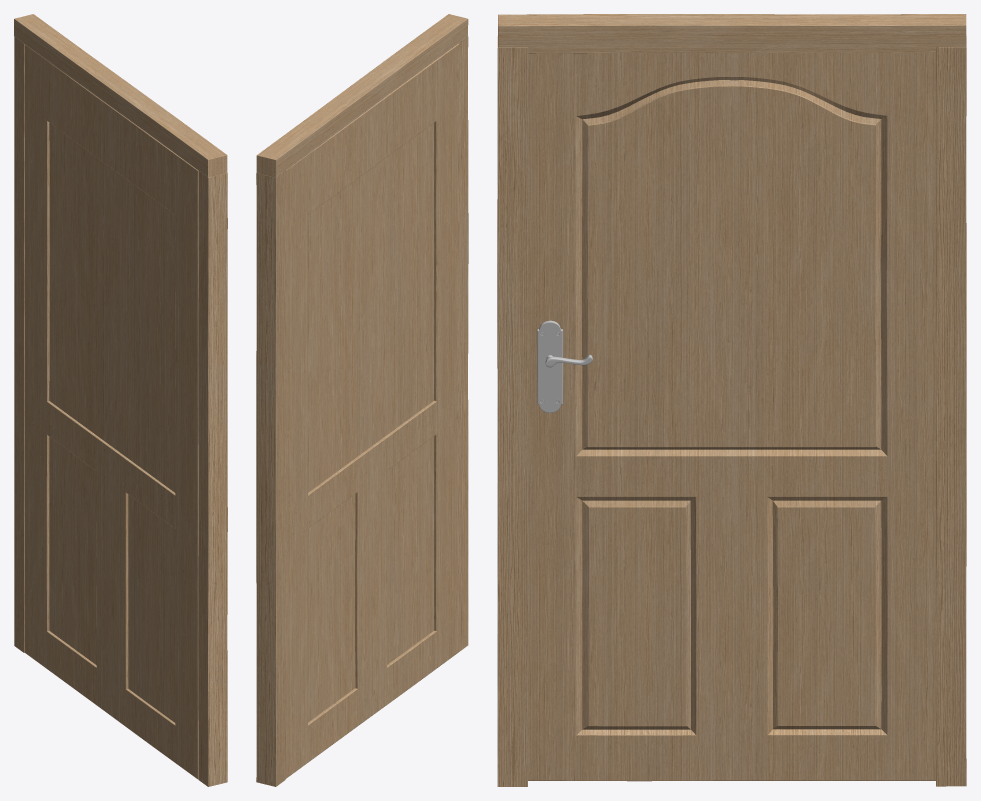
The model's file is door.fbx.
The picture shows the model from 3 angles, left to right: view 1: azimuth 30°, elevation 25°; view 2: azimuth 150°, elevation 25°; view 3: azimuth 270°, elevation 25°; orthographic projection. The views are drawn at different scales.
Visible parts, largest first — view 1: door, wooden_door_bar; view 2: door, wooden_door_bar; view 3: door, wooden_door_bar, door_handle.
Part boxes in pixels (bbox=[...]): door: bbox=[24, 44, 198, 779]; wooden_door_bar: bbox=[14, 14, 227, 786]; door: bbox=[285, 43, 458, 778]; wooden_door_bar: bbox=[256, 14, 468, 786]; door: bbox=[528, 47, 936, 781]; wooden_door_bar: bbox=[497, 14, 966, 786]; door_handle: bbox=[537, 320, 592, 413].
Size of the model in its own units: 21.66 by 574 by 321.
